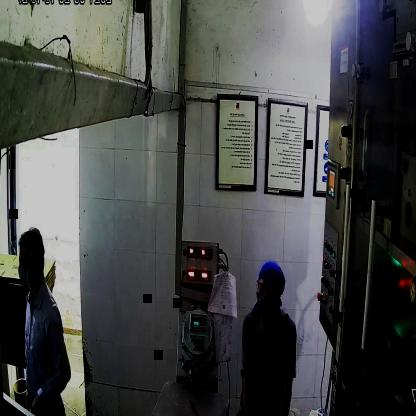goggles: (255, 276, 281, 299)
